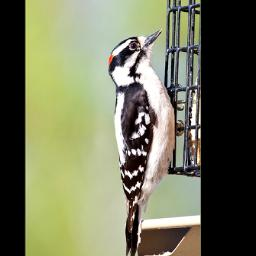Woodpecker: (106, 29, 185, 256)
